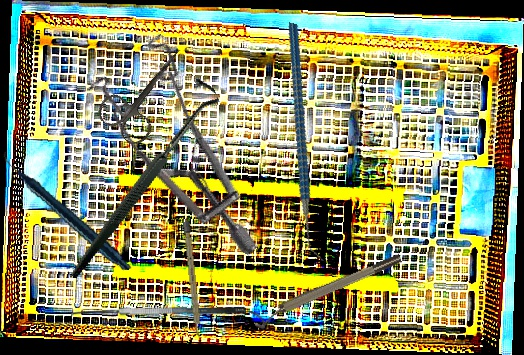Chopper: (231, 22, 383, 262)
Fixation Ring: (249, 251, 406, 331)
Handpiece: (1, 130, 133, 291)
Hook Surgical: (19, 74, 262, 279)
Iris Scissors: (92, 32, 203, 150)
Scalpel Handle: (182, 220, 203, 339)
Spatula Surgical: (70, 302, 247, 330)
Speculum: (54, 15, 325, 258)
